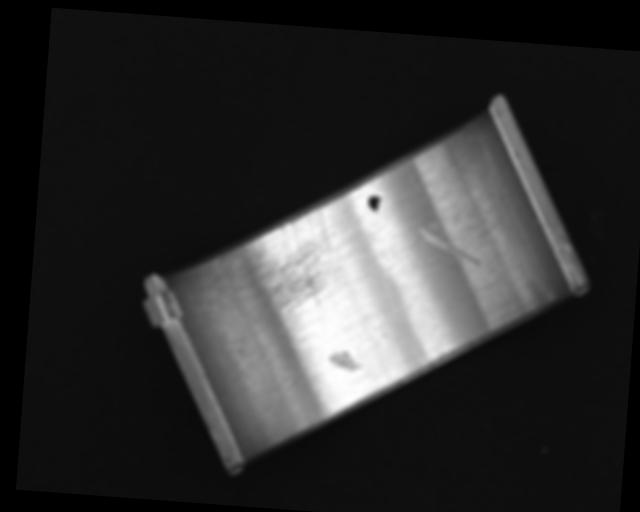blot: (366, 193, 382, 212)
bruise: (326, 349, 363, 371)
nick: (416, 228, 481, 265), (402, 176, 429, 256)
scratch: (218, 199, 350, 318)
